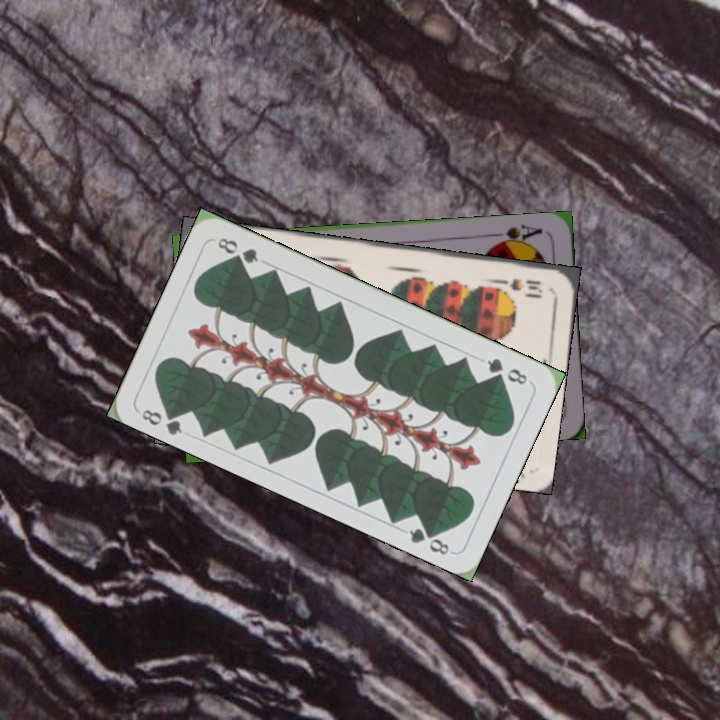G8: (137, 403, 185, 438), (482, 354, 530, 388)
S10: (492, 274, 545, 297)
SA: (487, 220, 545, 249)
